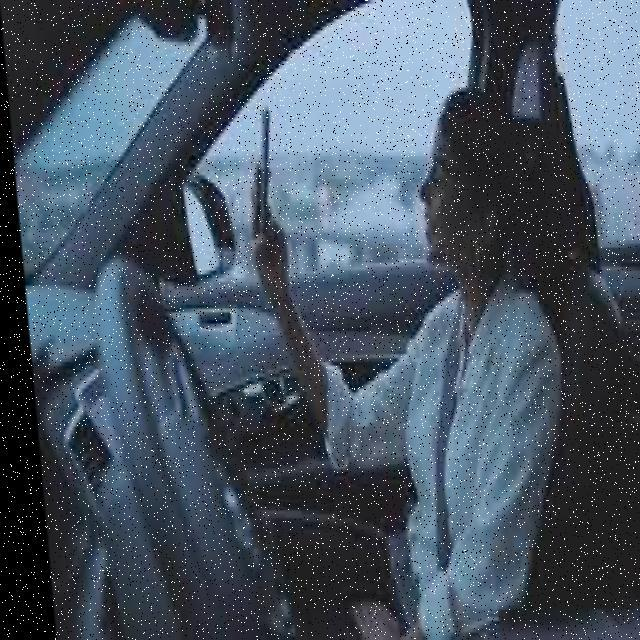seatbelt: (374, 252, 556, 608)
